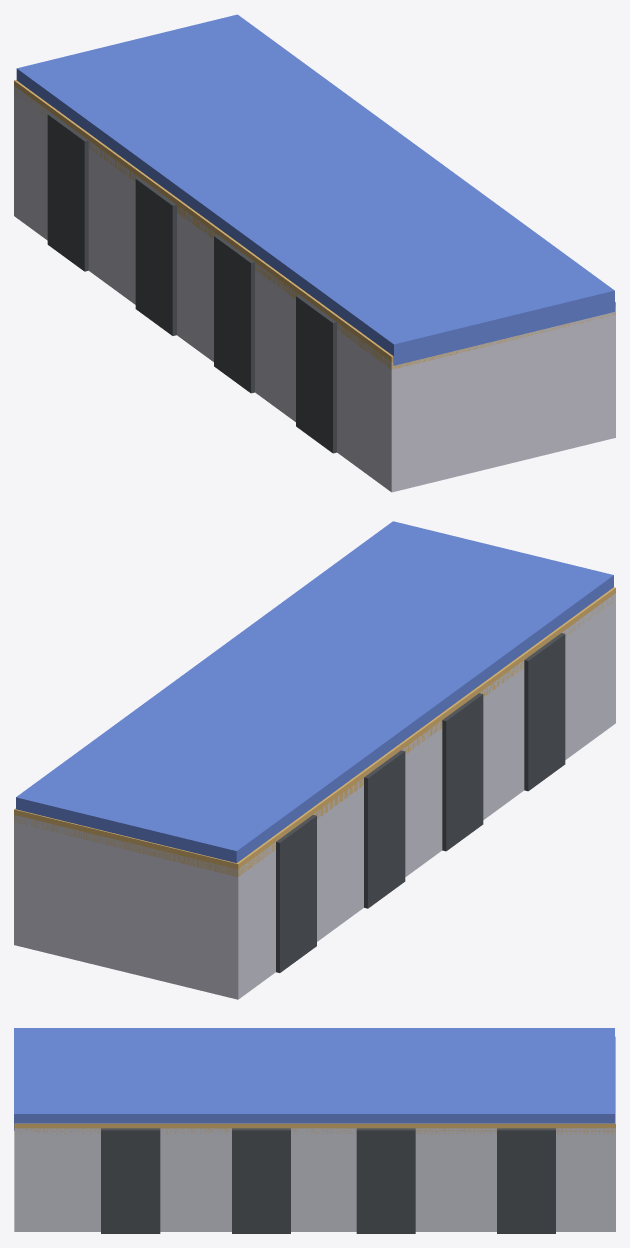
The model's file is die_fabrication.glb.
3 views of the same model, one above another, from view 1: azimuth 30°, elevation 25°; view 2: azimuth 150°, elevation 25°; view 3: azimuth 270°, elevation 25° (orthographic). The views are drawn at different scales.
Parts seen in each view (by area): view 1: Cube.005, Cube, Cube.004, Cube.003, Cube.007, Cube.002, Cube.001; view 2: Cube.005, Cube, Cube.001, Cube.002, Cube.007, Cube.003, Cube.004; view 3: Cube.005, Cube, Cube.003, Cube.007, Cube.002, Cube.004, Cube.001.
Boxes of the visible parts, x1,y1,x2,y2 form: Cube.005: (16, 14, 614, 365); Cube: (14, 86, 615, 492); Cube.004: (47, 113, 88, 271); Cube.003: (135, 178, 176, 335); Cube.007: (296, 295, 336, 453); Cube.002: (214, 235, 254, 393); Cube.001: (14, 80, 615, 369); Cube.005: (16, 521, 613, 863); Cube: (14, 593, 615, 999); Cube.001: (14, 587, 615, 876); Cube.002: (442, 693, 483, 851); Cube.007: (524, 633, 565, 791); Cube.003: (364, 750, 405, 908); Cube.004: (276, 815, 316, 972); Cube.005: (14, 1028, 614, 1130); Cube: (14, 1128, 615, 1231); Cube.003: (356, 1128, 415, 1233); Cube.007: (101, 1128, 160, 1233); Cube.002: (232, 1128, 290, 1233); Cube.004: (497, 1128, 555, 1233); Cube.001: (14, 1036, 615, 1134).
Size of the model in its own units: 2.08 by 1.26 by 5.84.
